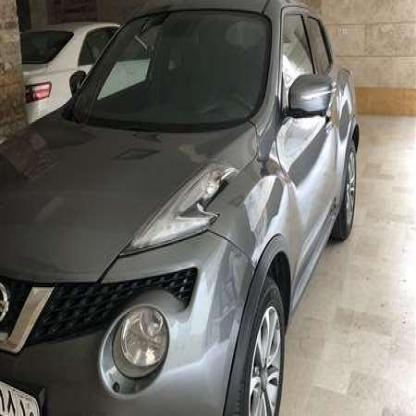Car: (0, 0, 370, 416), (0, 0, 166, 112)
